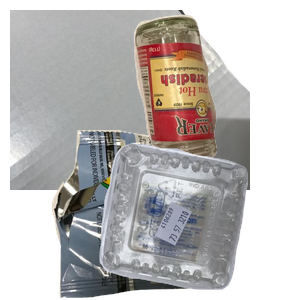cardboard: (10, 10, 250, 190)
glass: (131, 12, 300, 170)
plastic: (97, 141, 300, 300)
trash: (49, 130, 235, 300)
